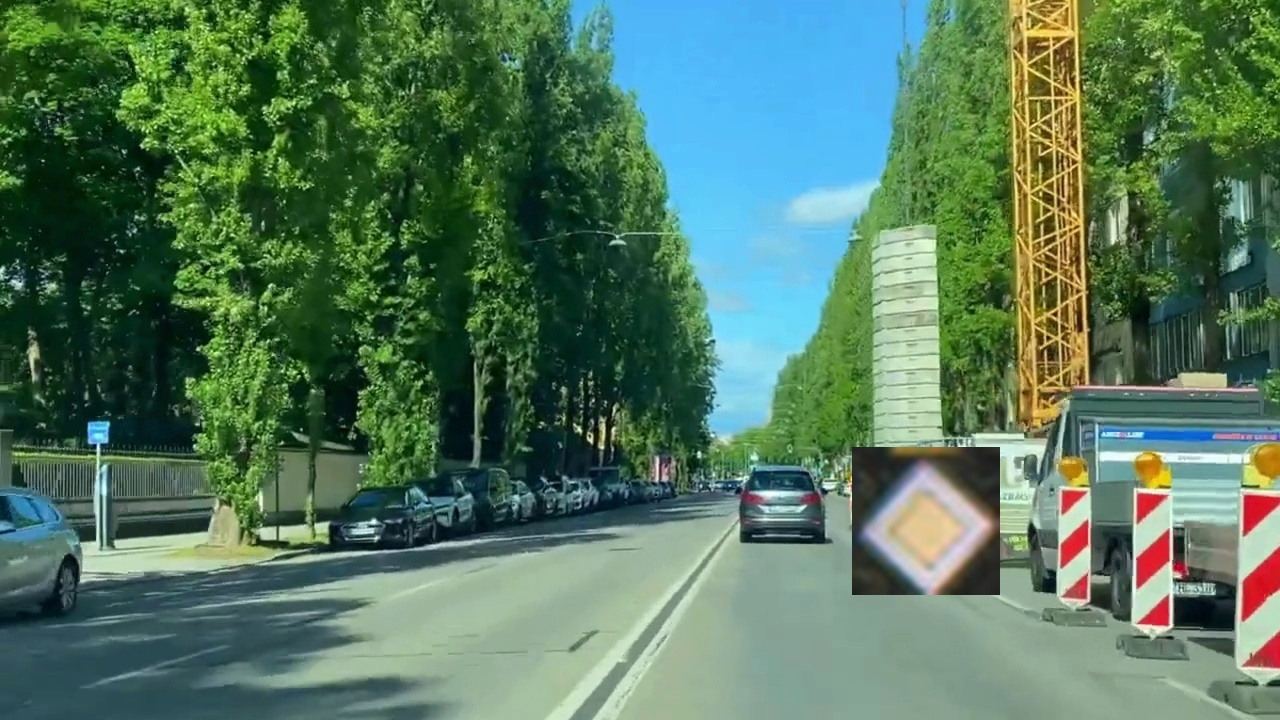Priority road: (852, 447, 1000, 595)
